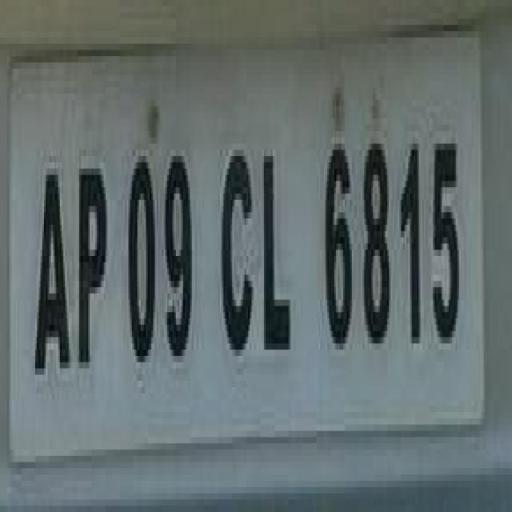number plate: (0, 19, 493, 475)
